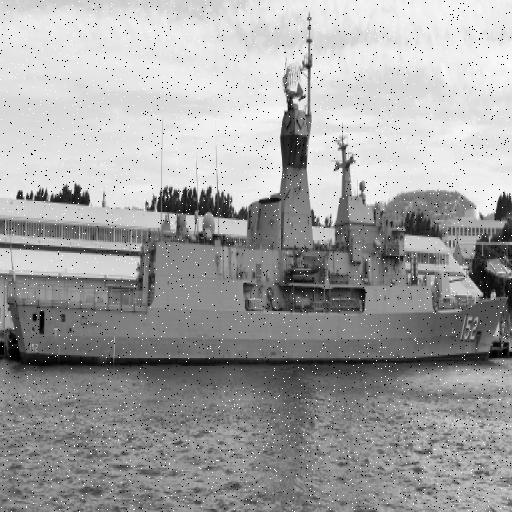Fragata: (7, 1, 510, 372)
